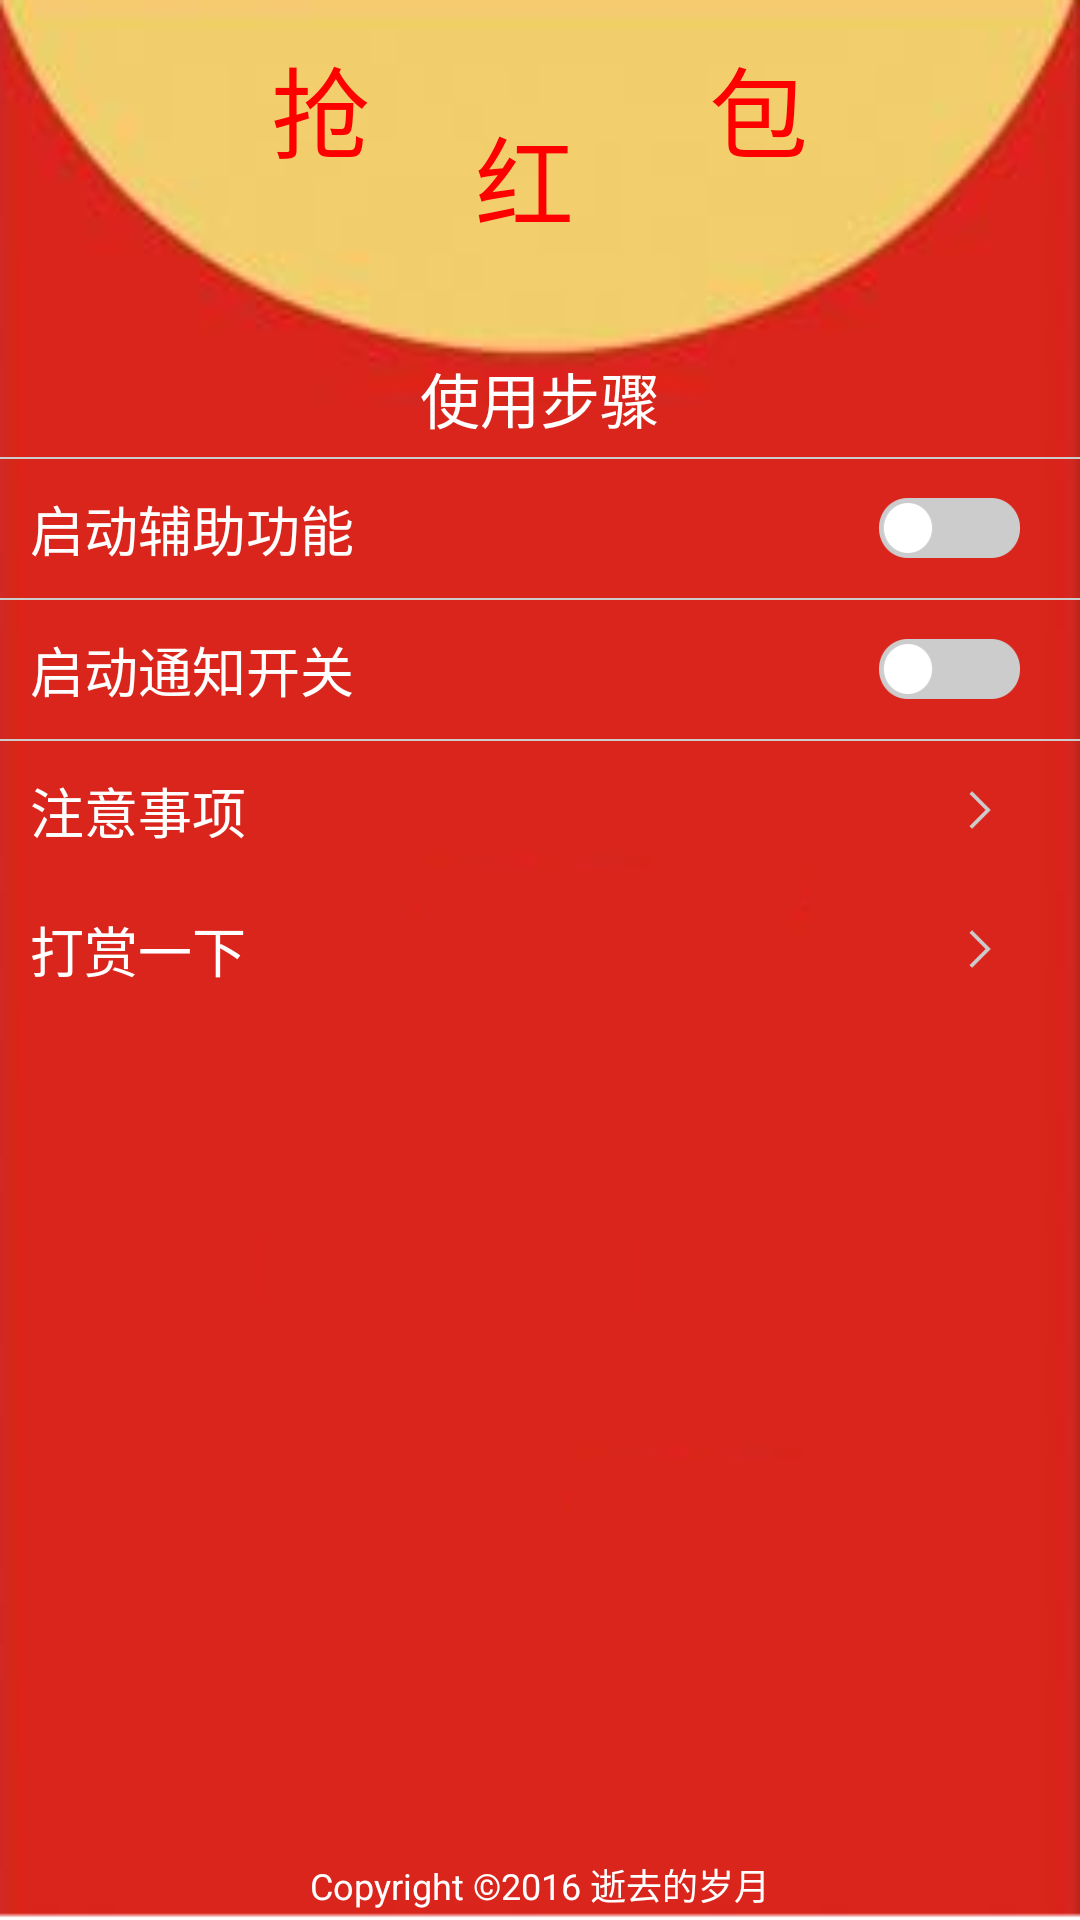

Point at icon controls on the screen. Image size 1080px x 1920px, points as [x,y].
next: [980,810], [980,949]
